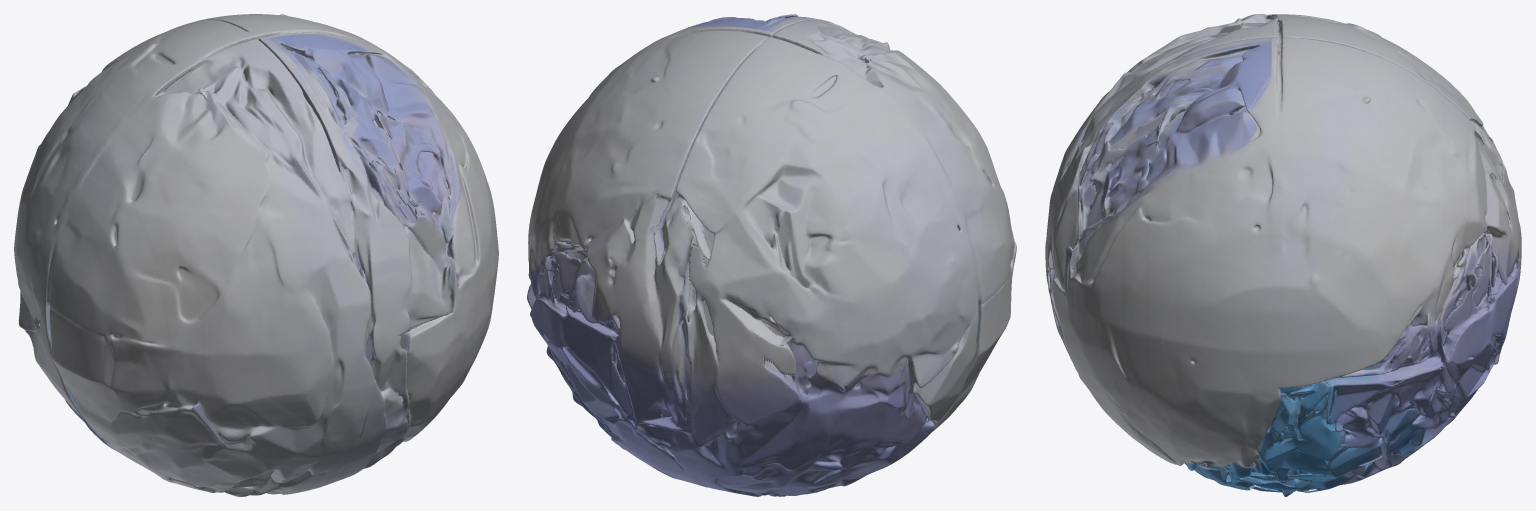
File: detailed_realistic_model_crystalball_16.glb
The picture shows the model from 3 angles, left to right: view 1: azimuth 30°, elevation 25°; view 2: azimuth 150°, elevation 25°; view 3: azimuth 270°, elevation 25°; orthographic projection.
Parts seen in each view (by area): view 1: tripo_node_f272b9ef-659f-4718-b02b-786243187895; view 2: tripo_node_f272b9ef-659f-4718-b02b-786243187895; view 3: tripo_node_f272b9ef-659f-4718-b02b-786243187895.
Boxes of the visible parts, left/top/right/bottom form: tripo_node_f272b9ef-659f-4718-b02b-786243187895: left=14, top=14, right=498, bottom=496; tripo_node_f272b9ef-659f-4718-b02b-786243187895: left=527, top=14, right=1016, bottom=496; tripo_node_f272b9ef-659f-4718-b02b-786243187895: left=1045, top=14, right=1521, bottom=496.
Size of the model in its own units: 0.9999 by 0.9998 by 0.9992.
1 material, 1 textured.
